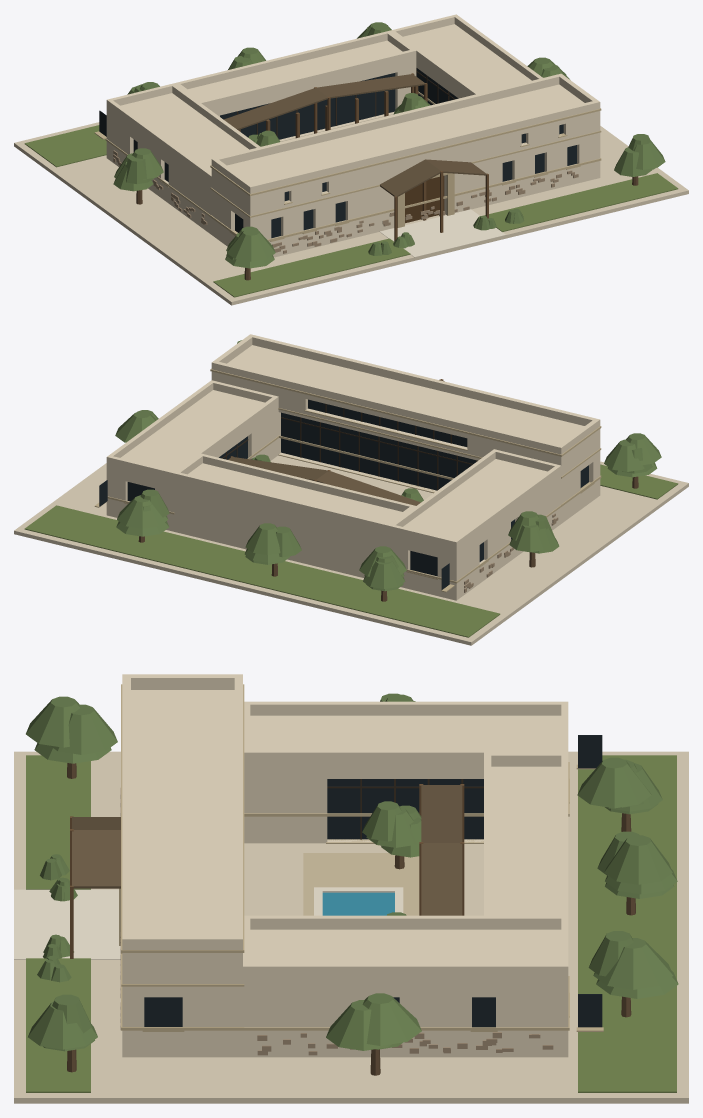
Rendered from northern.glb.
3 renders of one model, top to bottom at view 1: azimuth 30°, elevation 25°; view 2: azimuth 150°, elevation 25°; view 3: azimuth 270°, elevation 25°, orthographic. The views are drawn at different scales.
Parts seen in each view (by area): view 1: Northern_plaster, Northern_pave, Northern_lawn, Northern_leaf, Northern_glass, Northern_tent, Northern_plaster_d, Northern_coping, Northern_rubble, Northern_wood, Northern_door; view 2: Northern_plaster, Northern_pave, Northern_lawn, Northern_glass, Northern_leaf, Northern_plaster_d, Northern_tent, Northern_frame; view 3: Northern_plaster, Northern_pave, Northern_lawn, Northern_leaf, Northern_tent, Northern_glass, Northern_coping, Northern_plaster_d, Northern_court, Northern_water, Northern_rubble, Northern_trunk (+1 smaller).
Part boxes in pixels (left/top/right/bottom): Northern_plaster: left=106, top=14, right=600, bottom=257; Northern_pave: left=14, top=122, right=688, bottom=305; Northern_lawn: left=24, top=125, right=678, bottom=297; Northern_leaf: left=113, top=22, right=665, bottom=268; Northern_glass: left=99, top=68, right=576, bottom=238; Northern_tent: left=223, top=74, right=486, bottom=196; Northern_plaster_d: left=94, top=91, right=601, bottom=241; Northern_coping: left=380, top=209, right=505, bottom=257; Northern_rubble: left=113, top=150, right=578, bottom=253; Northern_wood: left=238, top=73, right=488, bottom=241; Northern_door: left=405, top=175, right=444, bottom=223; Northern_plaster: left=106, top=334, right=600, bottom=600; Northern_pave: left=14, top=455, right=688, bottom=645; Northern_lawn: left=24, top=464, right=678, bottom=637; Northern_glass: left=99, top=399, right=588, bottom=589; Northern_leaf: left=115, top=340, right=661, bottom=591; Northern_plaster_d: left=94, top=368, right=601, bottom=592; Northern_tent: left=228, top=379, right=444, bottom=505; Northern_frame: left=222, top=404, right=477, bottom=490; Northern_plaster: left=122, top=674, right=568, bottom=1057; Northern_pave: left=14, top=751, right=688, bottom=1103; Northern_lawn: left=26, top=755, right=676, bottom=1092; Northern_leaf: left=26, top=693, right=678, bottom=1051; Northern_tent: left=72, top=785, right=462, bottom=915; Northern_glass: left=144, top=735, right=602, bottom=1027; Northern_coping: left=14, top=887, right=403, bottom=959; Northern_plaster_d: left=119, top=684, right=603, bottom=1031; Northern_court: left=303, top=853, right=419, bottom=915; Northern_water: left=322, top=892, right=394, bottom=915; Northern_rubble: left=120, top=788, right=553, bottom=1055; Northern_trunk: left=67, top=763, right=635, bottom=1075.
Bounding box in the file's own units: 34 × 5.65 × 28.
